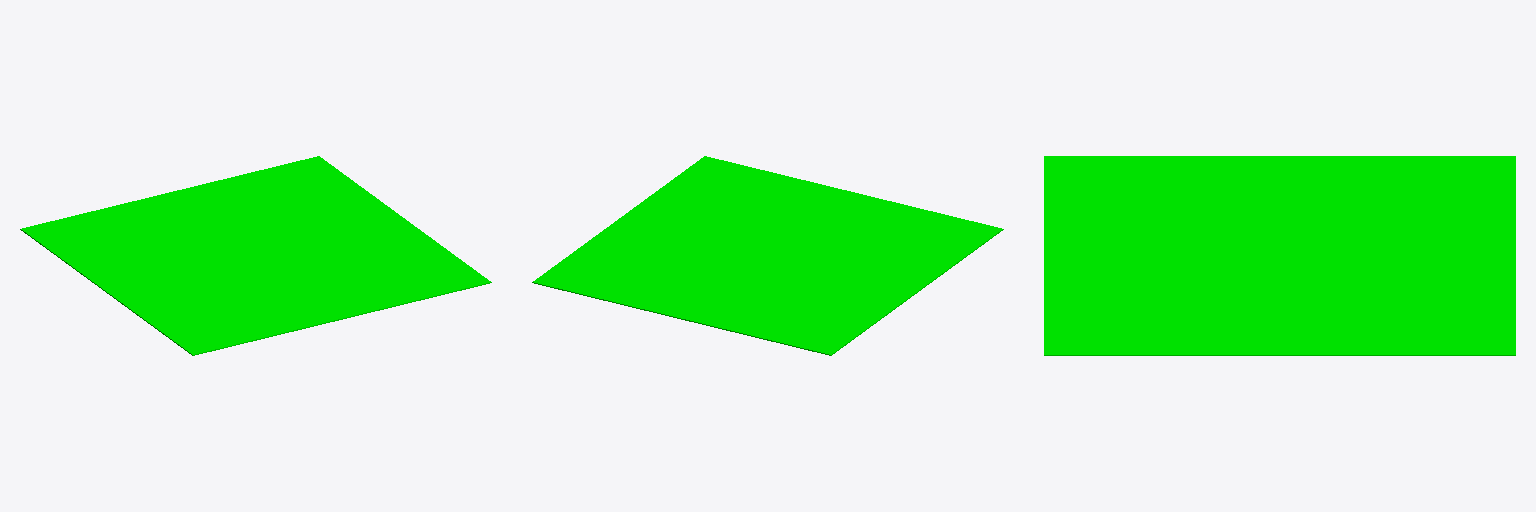
robot.urdf — pillar:
<?xml version="1.0"?>
<robot name="pillar">
  <link name="base_link">
    <visual>
      <geometry>
        <box size=".3 .3 0.001" />
      </geometry>
      <material name="green">
        <color rgba="0 1 0 1" />
      </material>
    </visual>
    <!-- no collision geometry -->
  </link>
</robot>

--- Facts derived from the render (not from the file) ---
Views: 3 orthographic renders of the robot side by side, from view 1: azimuth 30°, elevation 25°; view 2: azimuth 150°, elevation 25°; view 3: azimuth 270°, elevation 25°.
Model pillar with 1 links and 0 joints (none), rooted at base_link, posed every joint at zero.
Links seen in each view (by area): view 1: base_link; view 2: base_link; view 3: base_link.
Link boxes in pixels (box(x1,y1,x2,y2)): base_link: box(20, 156, 491, 355); base_link: box(532, 156, 1003, 355); base_link: box(1044, 156, 1515, 355).
Bounding box of the posed robot: 0.3 × 0.3 × 0.001 m (x, y, z).
Geometry: primitives only (box / cylinder / sphere), no mesh files.
